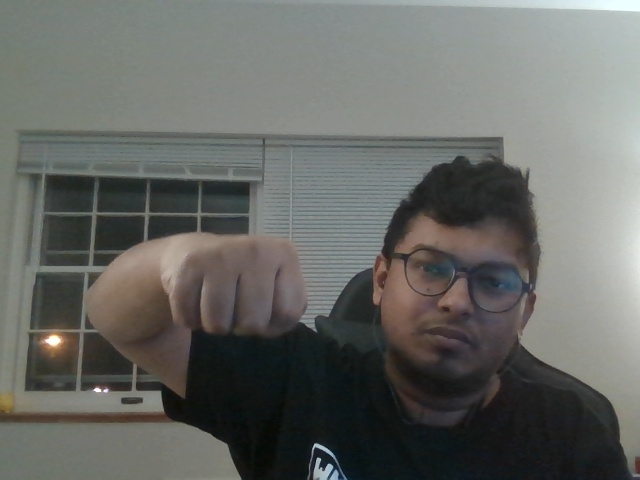yes: (130, 210, 350, 376)
